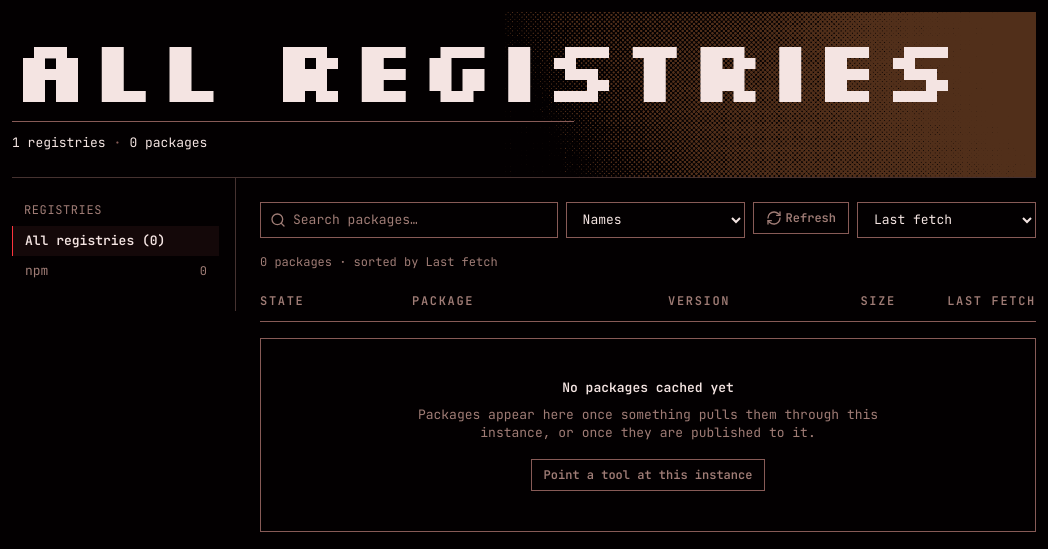
PackageCatalog prose search › says what was searched when a prose search finds nothing
The width and height of the screenshot is (1048, 549).
Select "READMEs" in the dropdown named "Search in": coordinates (655, 220) [566, 202, 745, 238]
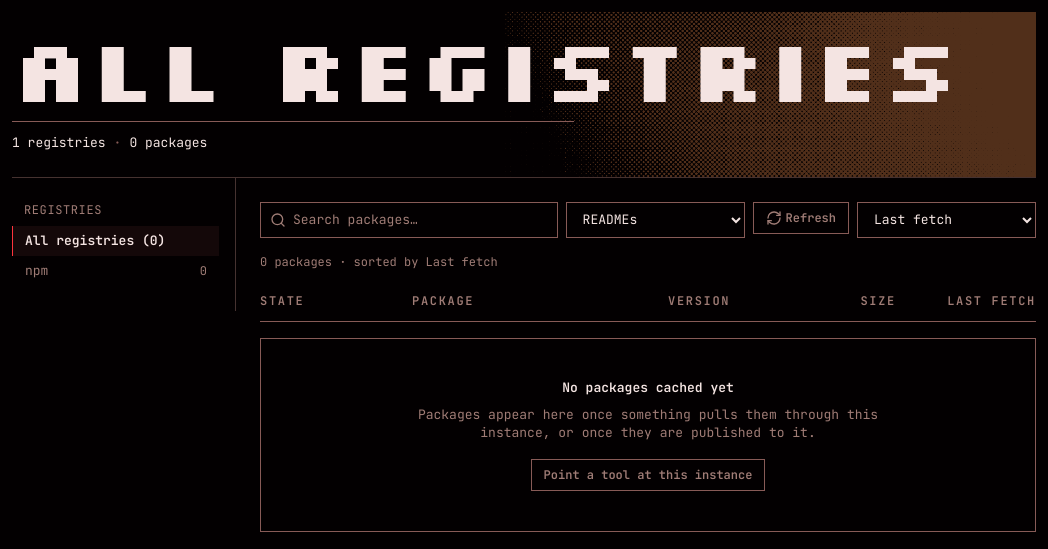
Note: Typed and debounced locally: `typeSearch` belongs to the browsing suite.
In the field with placeholder "Search packages…": coordinates (409, 220) [260, 202, 558, 238], type "backoff"
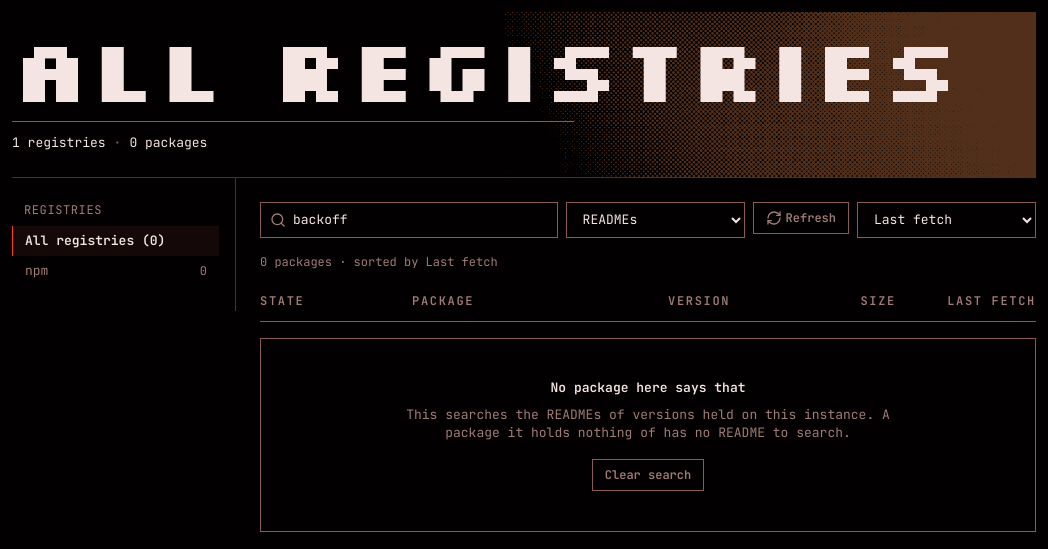
Now the text "READMEs of versions held on this instance" is shown, box [406, 406, 890, 441]
